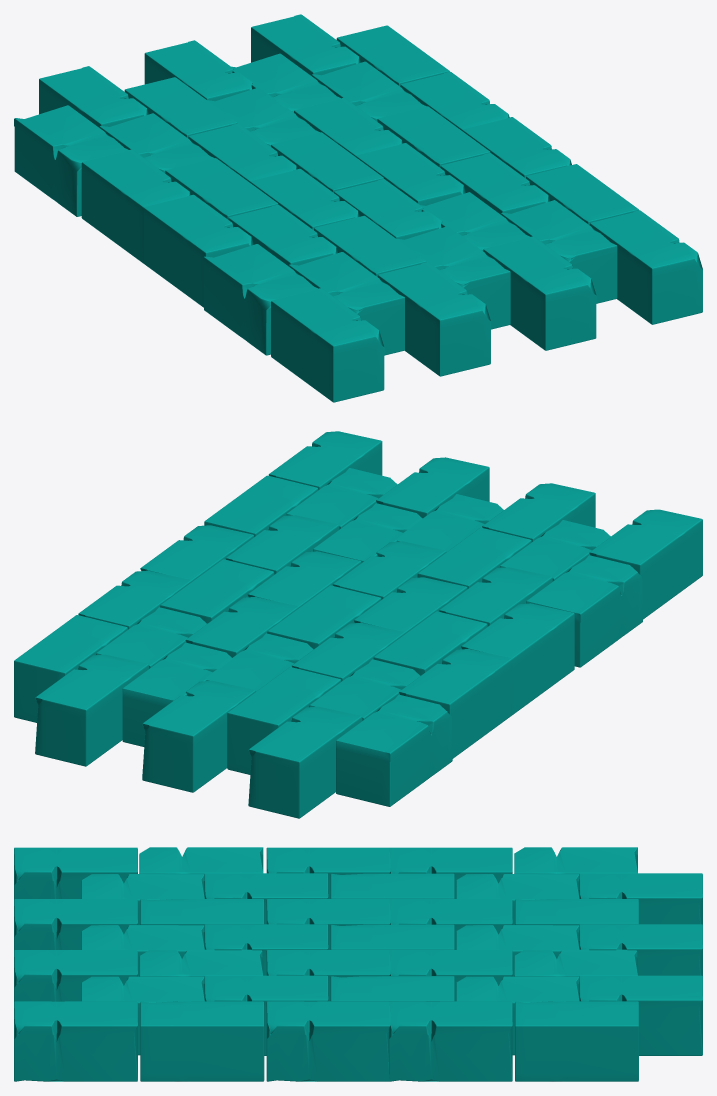
File: SOL.fbx
3 views of the same model, one above another, from view 1: azimuth 30°, elevation 25°; view 2: azimuth 150°, elevation 25°; view 3: azimuth 270°, elevation 25° (orthographic).
Visible parts, largest first — view 1: pCube316, pCube308, pCube295, pCube310, pCube314, pCube283, pCube317, pCube300, pCube303, pCube288, pCube312, pCube289 (+23 smaller); view 2: pCube283, pCube289, pCube305, pCube318, pCube317, pCube300, pCube316, pCube314, pCube297, pCube322, pCube284, pCube308 (+23 smaller); view 3: pCube307, pCube286, pCube295, pCube322, pCube304, pCube289, pCube316, pCube308, pCube310, pCube318, pCube305, pCube294 (+23 smaller).
Boxes of the visible parts, bbox=[...] form: pCube316: bbox=[271, 288, 384, 402]; pCube308: bbox=[483, 236, 596, 350]; pCube295: bbox=[589, 210, 702, 324]; pCube310: bbox=[377, 262, 490, 376]; pCube314: bbox=[143, 194, 253, 307]; pCube283: bbox=[14, 105, 128, 216]; pCube317: bbox=[203, 244, 317, 355]; pCube300: bbox=[81, 149, 190, 263]; pCube303: bbox=[500, 200, 617, 303]; pCube288: bbox=[288, 252, 404, 355]; pCube312: bbox=[397, 226, 510, 329]; pCube289: bbox=[251, 14, 360, 75]; pCube283: bbox=[336, 694, 452, 806]; pCube289: bbox=[35, 654, 148, 766]; pCube305: bbox=[248, 706, 362, 818]; pCube318: bbox=[142, 680, 255, 792]; pCube317: bbox=[526, 555, 642, 667]; pCube300: bbox=[398, 649, 512, 758]; pCube316: bbox=[589, 509, 702, 619]; pCube314: bbox=[461, 603, 574, 714]; pCube297: bbox=[227, 667, 341, 774]; pCube322: bbox=[14, 615, 127, 722]; pCube284: bbox=[122, 642, 232, 746]; pCube308: bbox=[376, 457, 489, 518]; pCube307: bbox=[140, 1001, 264, 1081]; pCube286: bbox=[388, 1001, 512, 1081]; pCube295: bbox=[14, 1001, 137, 1081]; pCube322: bbox=[515, 1001, 638, 1081]; pCube304: bbox=[266, 1001, 390, 1081]; pCube289: bbox=[579, 975, 702, 1055]; pCube316: bbox=[14, 847, 137, 899]; pCube308: bbox=[14, 950, 137, 1001]; pCube310: bbox=[14, 899, 137, 950]; pCube318: bbox=[579, 924, 702, 976]; pCube305: bbox=[579, 873, 702, 924]; pCube294: bbox=[204, 975, 328, 1055].
Size of the model in its own units: 15.85 by 2.31 by 25.54.
